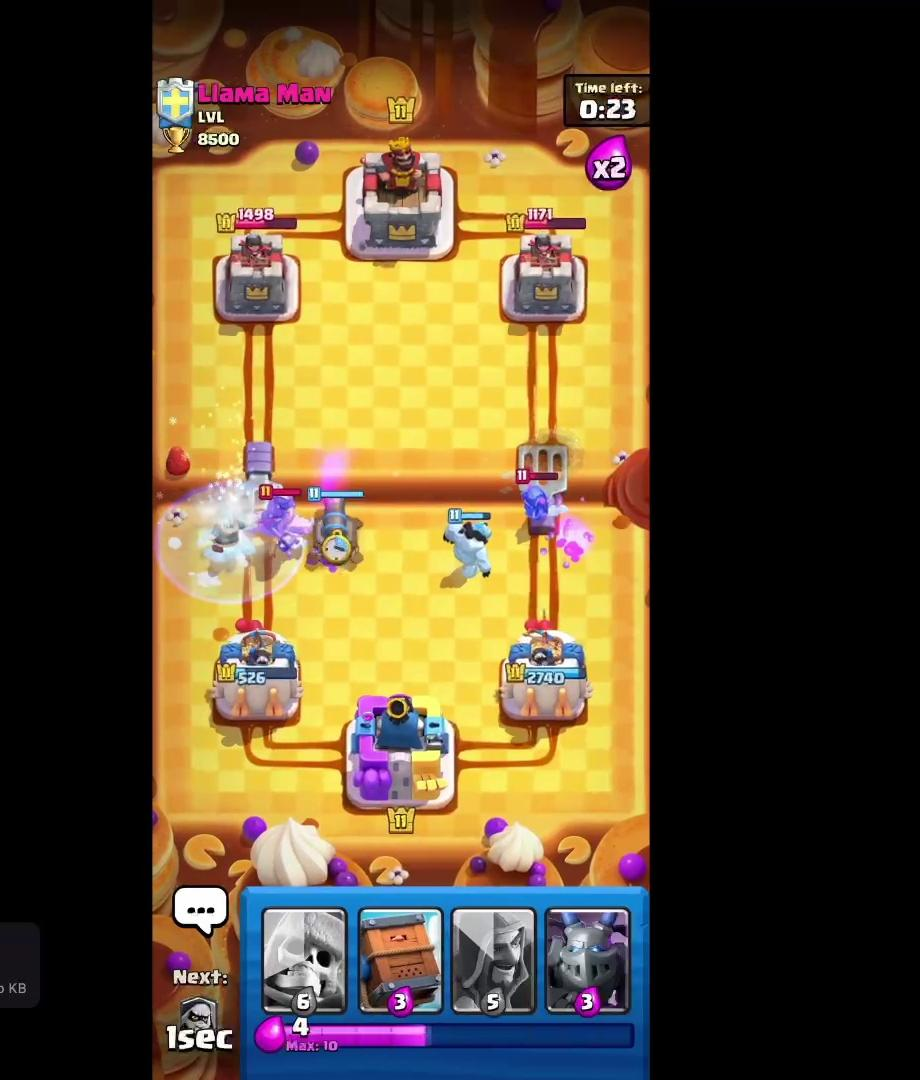Hog Rider: (245, 474, 316, 562)
Mini Pekka: (510, 471, 573, 535)
